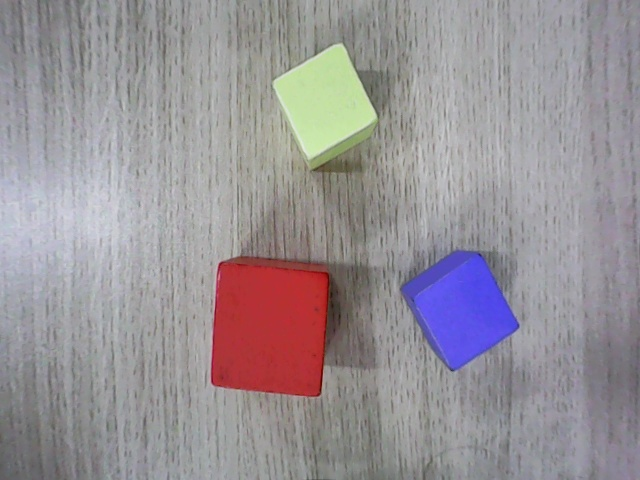upside of big cube: (210, 263, 329, 397)
upside of small cube: (270, 42, 379, 161), (413, 254, 519, 373)
